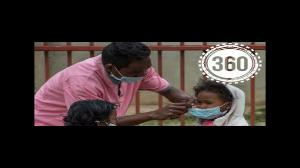mask_weared_incorrect: (128, 64, 150, 83), (196, 97, 219, 115), (108, 113, 121, 126)
